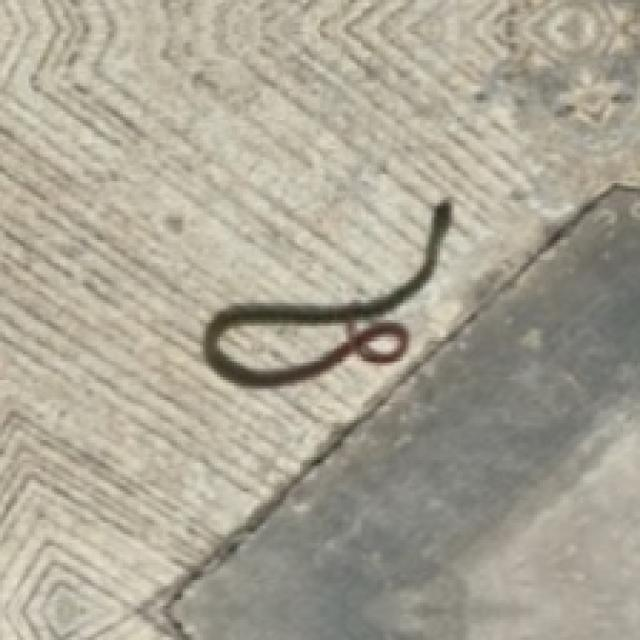reddish rat snake: (203, 200, 449, 383)
